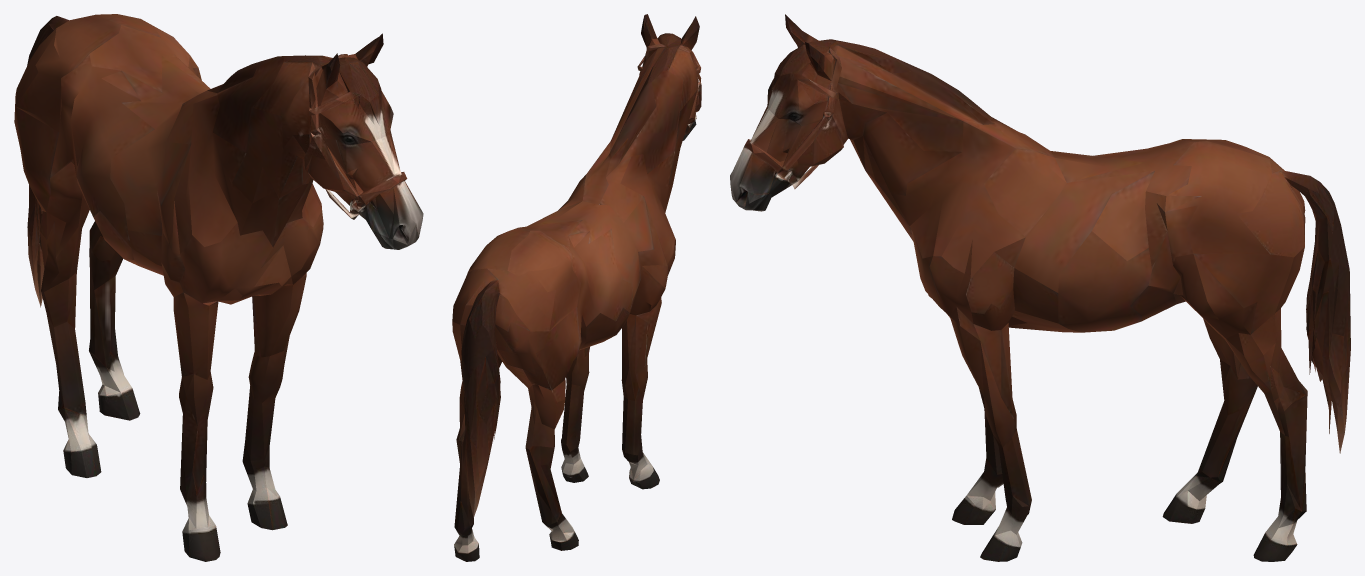
File: world-horse.glb
3 views of the same model, side by side, from view 1: azimuth 30°, elevation 25°; view 2: azimuth 150°, elevation 25°; view 3: azimuth 270°, elevation 25° (orthographic). The views are drawn at different scales.
Bounding box in the file's own units: 0.4896 × 1.75 × 1.9.
1 material, 1 textured.
